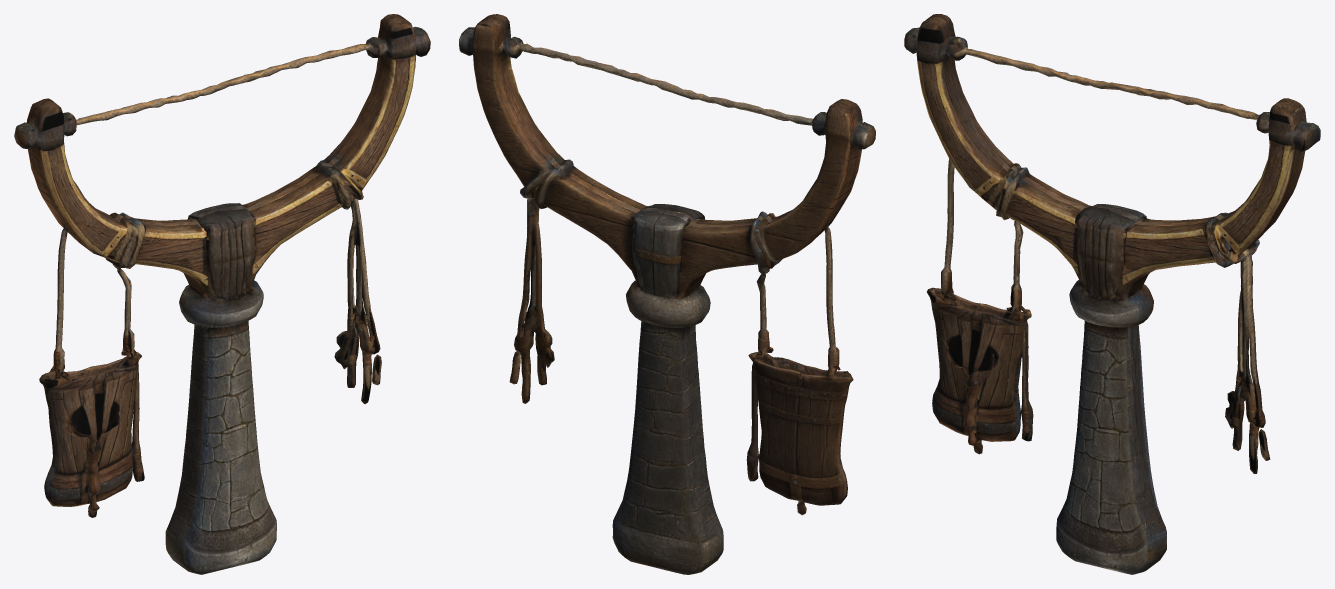
Rendered from 3d_asset_for_game_a__0211050602_texture.fbx.
3 views of the same model, side by side, from view 1: azimuth 30°, elevation 25°; view 2: azimuth 150°, elevation 25°; view 3: azimuth 330°, elevation 25° (orthographic).
Parts seen in each view (by area): view 1: Mesh1_Mesh1.029; view 2: Mesh1_Mesh1.029; view 3: Mesh1_Mesh1.029.
Part boxes in pixels (<box>): Mesh1_Mesh1.029: <box>14,14,430,574</box>; Mesh1_Mesh1.029: <box>459,14,875,574</box>; Mesh1_Mesh1.029: <box>904,14,1320,574</box>.
Size of the model in its own units: 169 by 200 by 24.54.
Materials: 1 (1 with a texture image).
